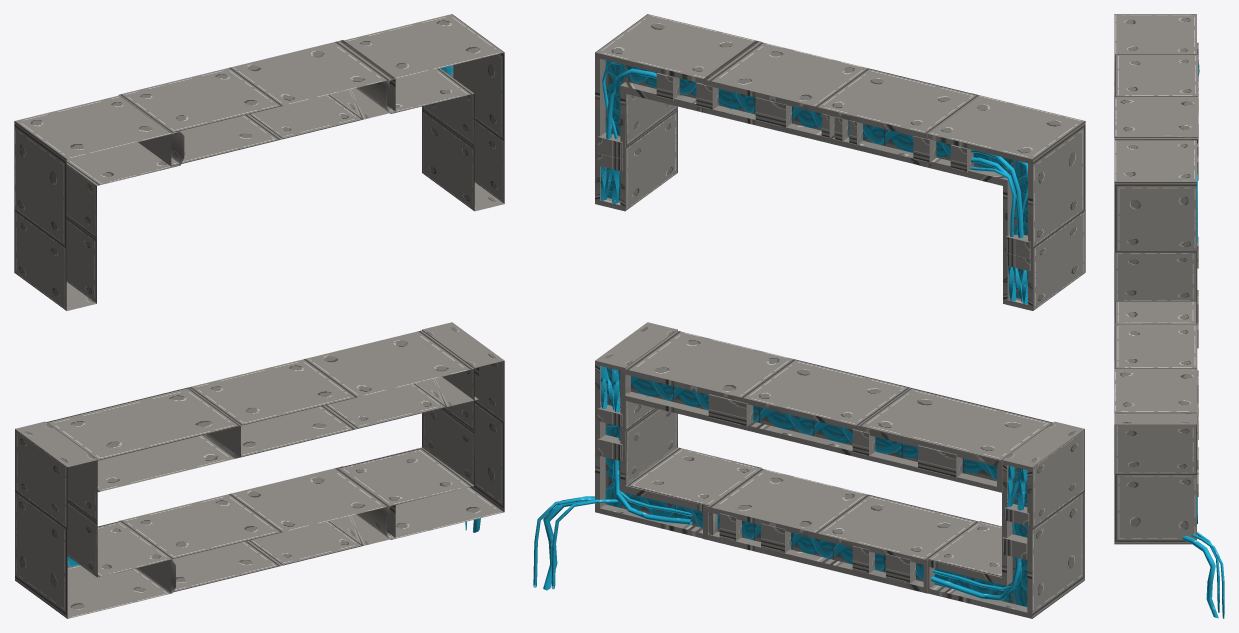
Rendered from TinyStupidBabyRoom.fbx.
The picture shows the model from 3 angles, left to right: view 1: azimuth 30°, elevation 25°; view 2: azimuth 150°, elevation 25°; view 3: azimuth 270°, elevation 25°; orthographic projection. The views are drawn at different scales.
Visible parts, largest first — view 1: pasted__TopCornerWalll5, wallPiece10, pasted__wallPiece8, pasted__wallPiece9, pasted__TopCornerWalll4, pasted__TopCornerWalll3, pasted__TopCornerWalll2, CornerBase17; view 2: wallPiece10, pasted__TopCornerWalll5, pasted__TopCornerWalll3, pasted__wallPiece8, pasted__wallPiece9, pasted__TopCornerWalll4, pasted__TopCornerWalll2, CornerBase17, pasted__pCube92, pasted__pCube93, pasted__pCube84; view 3: pasted__TopCornerWalll4, pasted__TopCornerWalll2, wallPiece10, pasted__wallPiece8, pasted__TopCornerWalll5, CornerBase17, pasted__CornerWire2, pasted__CornerWire3, pasted__CornerWire5.
Part boxes in pixels (x1,y1,x2,y2): pasted__TopCornerWalll5: (14,95,184,310); wallPiece10: (188,330,478,457); pasted__wallPiece8: (118,40,395,166); pasted__wallPiece9: (119,466,395,592); pasted__TopCornerWalll4: (344,14,504,211); pasted__TopCornerWalll3: (15,421,175,618); pasted__TopCornerWalll2: (338,322,504,539); CornerBase17: (46,387,240,492); wallPiece10: (620,330,910,457); pasted__TopCornerWalll5: (919,93,1085,310); pasted__TopCornerWalll3: (927,421,1084,618); pasted__wallPiece8: (703,41,979,167); pasted__wallPiece9: (703,468,978,593); pasted__TopCornerWalll4: (595,14,761,211); pasted__TopCornerWalll2: (595,322,761,538); CornerBase17: (858,388,1052,492); pasted__pCube92: (708,394,753,427); pasted__pCube93: (918,445,962,478); pasted__pCube84: (755,97,791,128); pasted__TopCornerWalll4: (1114,138,1196,301); pasted__TopCornerWalll2: (1114,413,1196,544); wallPiece10: (1114,324,1197,440); pasted__wallPiece8: (1115,54,1197,144); pasted__TopCornerWalll5: (1114,14,1196,138); CornerBase17: (1114,269,1197,323); pasted__CornerWire2: (1182,536,1218,618); pasted__CornerWire3: (1191,534,1224,618); pasted__CornerWire5: (1197,532,1219,612).
Bounding box in the file's own units: 15.97 × 16.98 × 4.02.
